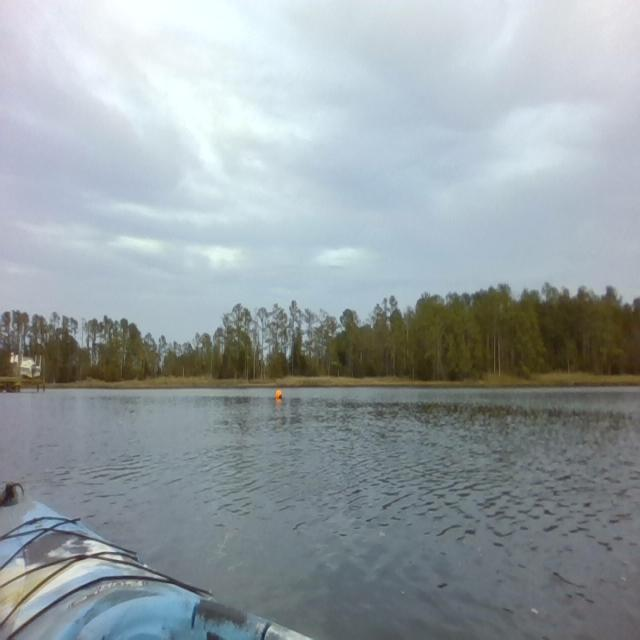Buoy: (275, 387, 283, 401)
